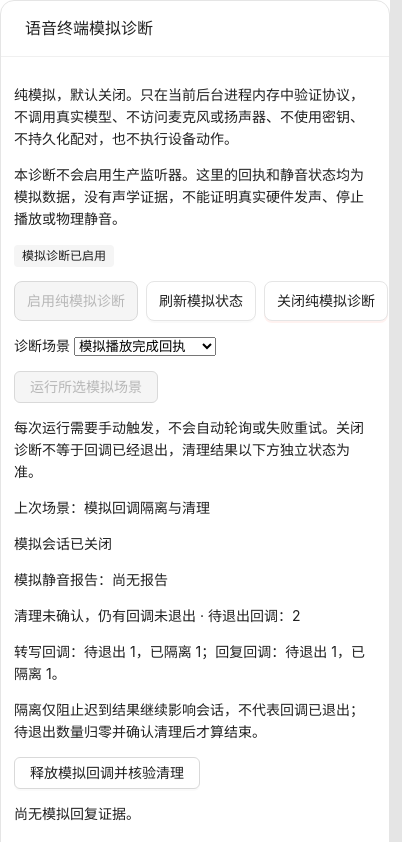
Test: memory-only terminal diagnostics › closing diagnostics does not erase unresolved cleanup or allow re-enabling over it
The image size is (402, 842).
Expected: the text "模拟诊断已启用" is shown, x1=14 y1=245 x2=114 y2=267
Step 1. Click the button "关闭纯模拟诊断" → (326,301), box x1=264 y1=281 x2=388 y2=321
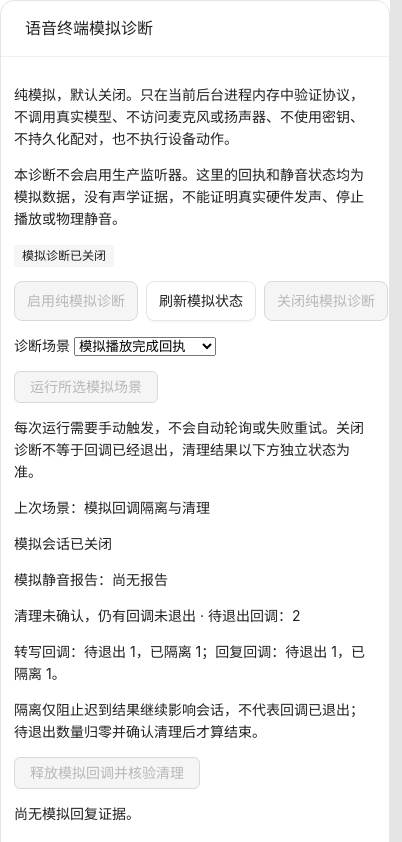
Expected: the text named "模拟清理状态" shows "清理未确认", x1=14 y1=607 x2=196 y2=624
Expected: the text "模拟诊断已关闭" is shown, x1=14 y1=245 x2=114 y2=267
Expected: the button "释放模拟回调并核验清理" is disabled, x1=14 y1=757 x2=200 y2=789
